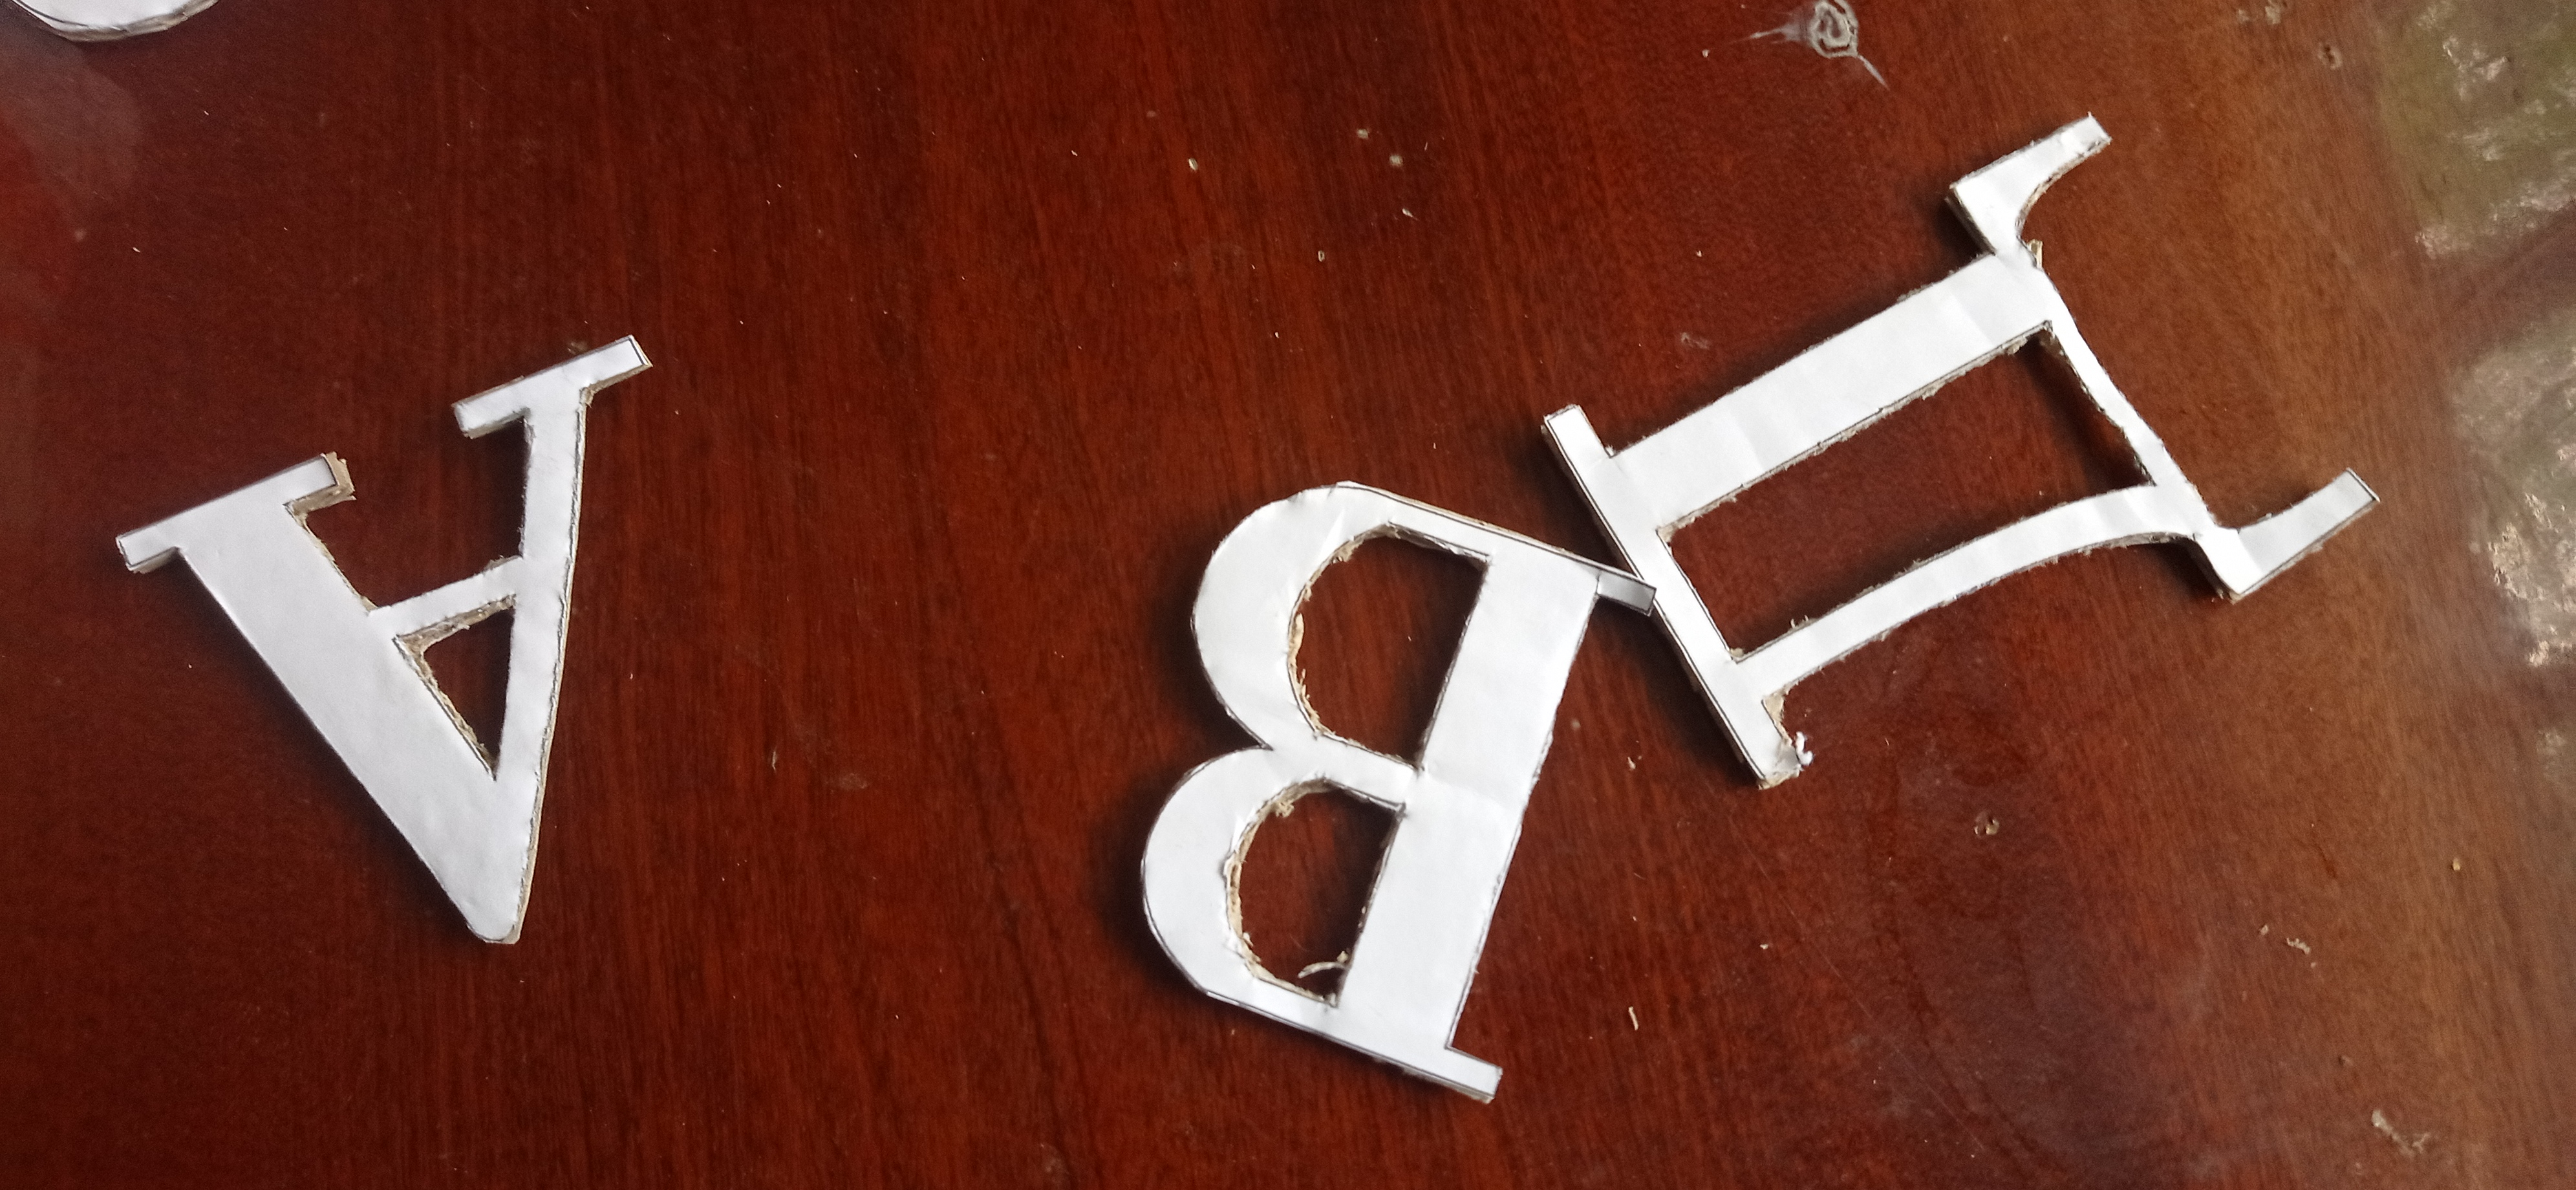a: (107, 332, 657, 950)
d: (1543, 112, 2381, 792)
v: (1137, 480, 1658, 1106)
